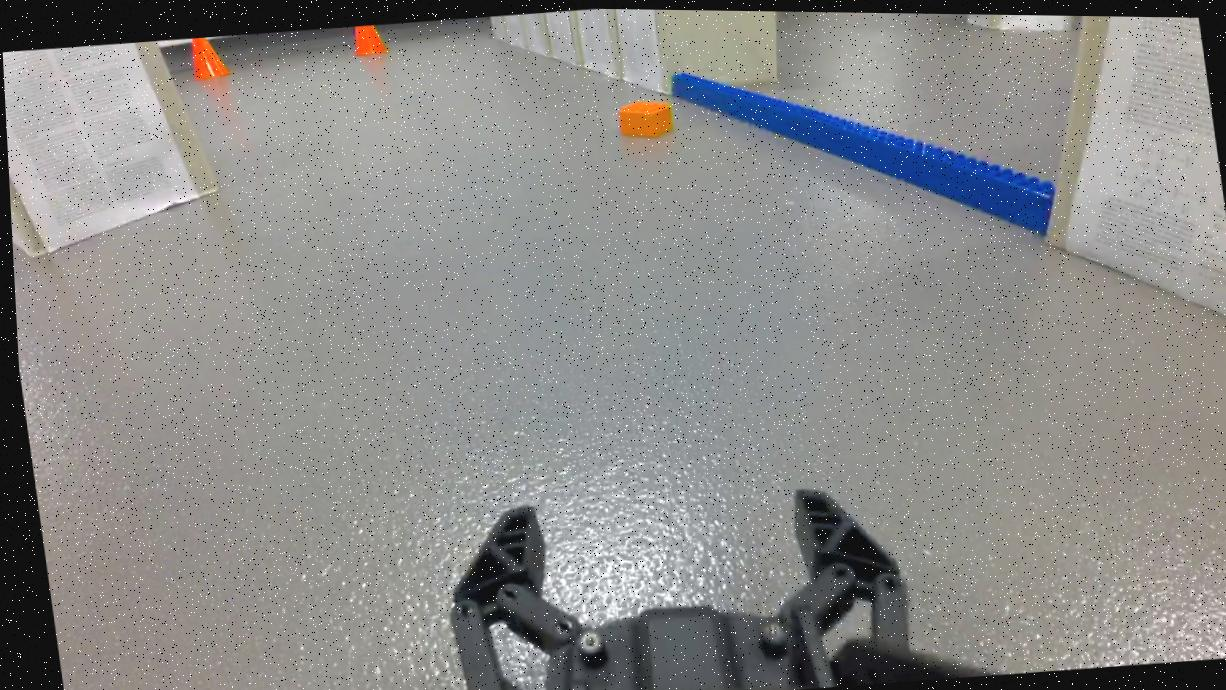4x4lego: (612, 91, 676, 141)
